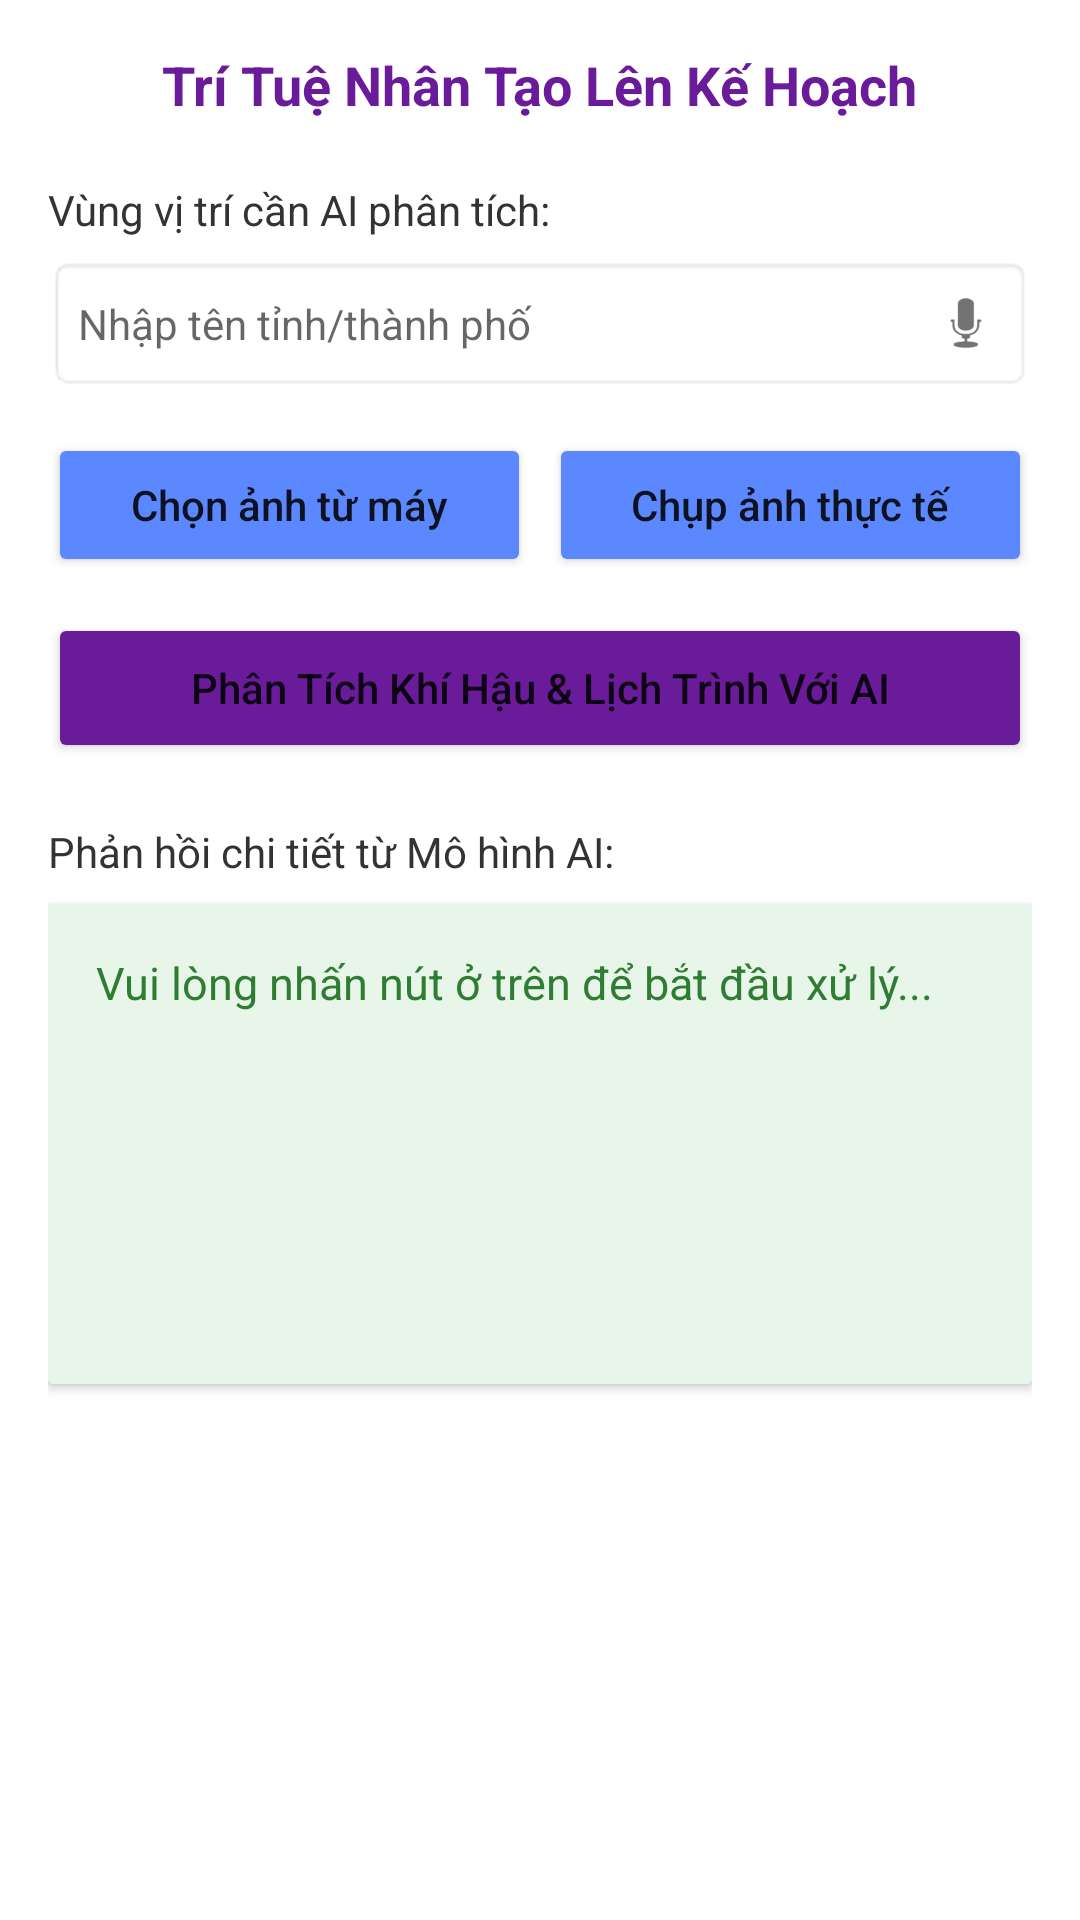

Icons on this 1080w x 1920h Android screen, each with its box as (x1, y1, x2, y2):
Mic: (950, 298, 982, 348)
